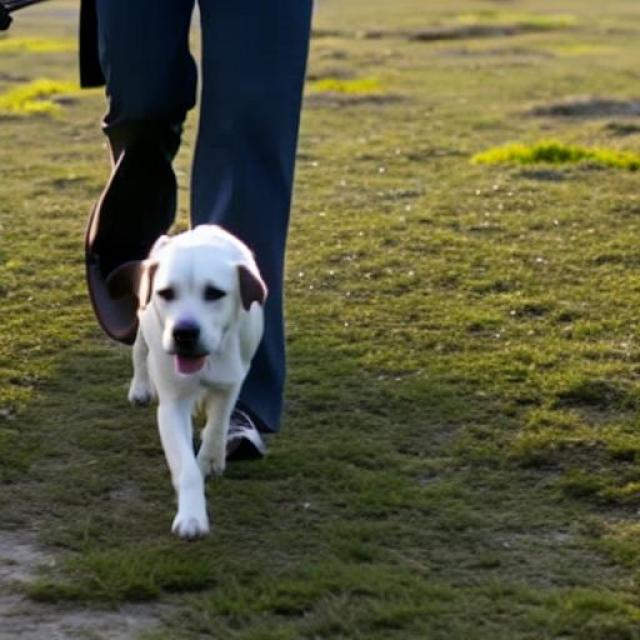Unleashed_Dog: (98, 0, 313, 541)
